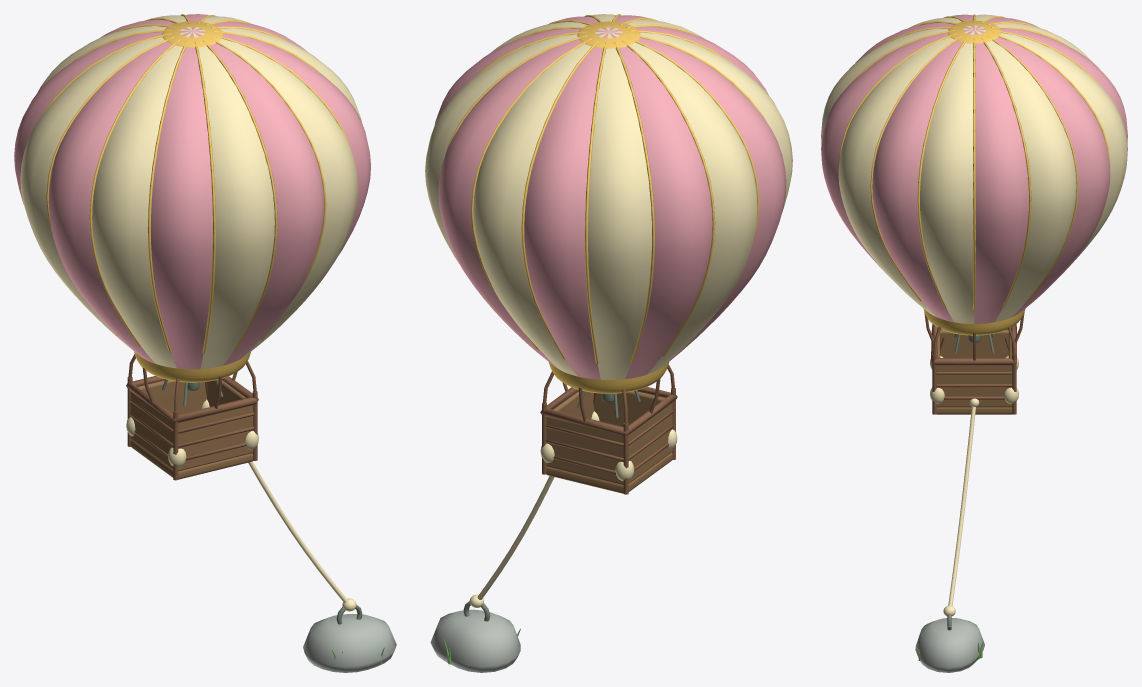
File: decor-sky-balloon.glb
3 renders of one model, left to right at view 1: azimuth 30°, elevation 25°; view 2: azimuth 150°, elevation 25°; view 3: azimuth 270°, elevation 25°, orthographic. The views are drawn at different scales.
Visible parts, largest first — view 1: sky-balloon-cream.006, sky-balloon-pink.006, sky-balloon-gold.006, sky-balloon-wood.006, sky-balloon-stone.006, sky-balloon-bark.006; view 2: sky-balloon-cream.006, sky-balloon-pink.006, sky-balloon-gold.006, sky-balloon-wood.006, sky-balloon-bark.006, sky-balloon-stone.006; view 3: sky-balloon-cream.006, sky-balloon-pink.006, sky-balloon-gold.006, sky-balloon-wood.006, sky-balloon-stone.006, sky-balloon-bark.006.
Boxes of the visible parts, <box> form: sky-balloon-cream.006: <box>20,15,361,611</box>; sky-balloon-pink.006: <box>14,14,370,369</box>; sky-balloon-gold.006: <box>40,14,349,382</box>; sky-balloon-wood.006: <box>130,380,253,479</box>; sky-balloon-stone.006: <box>303,614,396,672</box>; sky-balloon-bark.006: <box>126,354,258,480</box>; sky-balloon-cream.006: <box>425,14,792,607</box>; sky-balloon-pink.006: <box>434,15,786,379</box>; sky-balloon-gold.006: <box>447,14,766,393</box>; sky-balloon-wood.006: <box>546,391,672,493</box>; sky-balloon-bark.006: <box>540,364,677,494</box>; sky-balloon-stone.006: <box>430,609,520,672</box>; sky-balloon-cream.006: <box>821,14,1127,616</box>; sky-balloon-pink.006: <box>821,14,1127,323</box>; sky-balloon-gold.006: <box>838,14,1110,335</box>; sky-balloon-wood.006: <box>936,330,1012,414</box>; sky-balloon-stone.006: <box>915,618,984,672</box>; sky-balloon-bark.006: <box>924,312,1024,414</box>.
Bounding box in the file's own units: 5.44 × 10.02 × 4.92.
